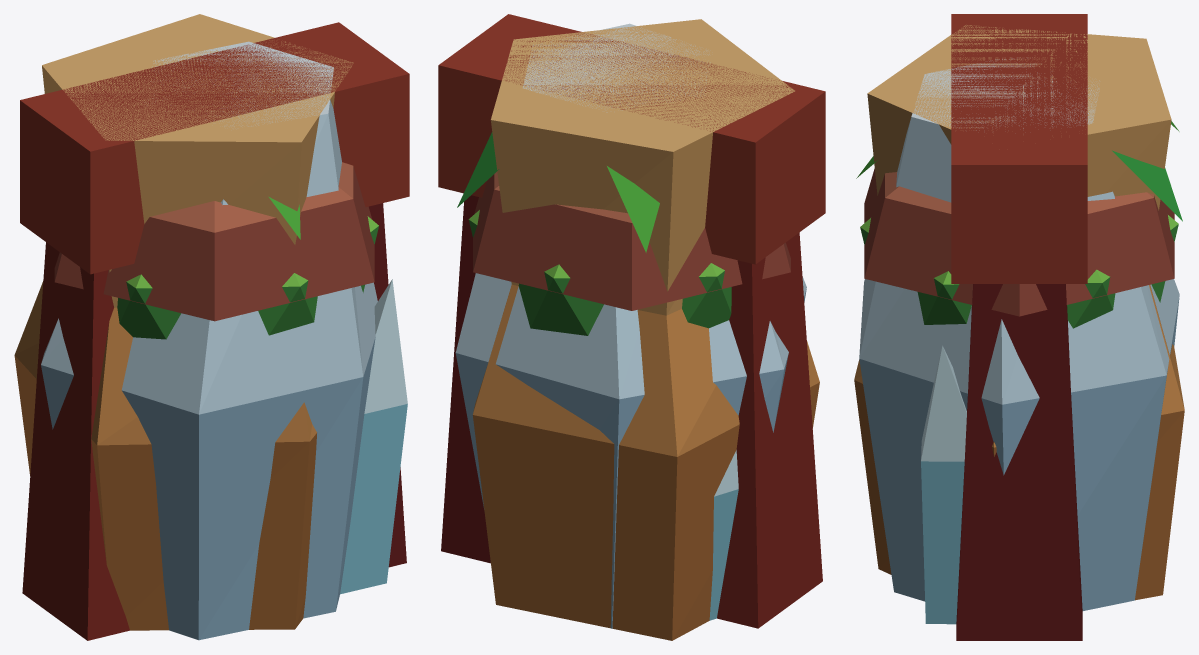
Rendered from openworld-biomes.glb.
3 renders of one model, left to right at view 1: azimuth 30°, elevation 25°; view 2: azimuth 150°, elevation 25°; view 3: azimuth 270°, elevation 25°, orthographic. The views are drawn at different scales.
Visible parts, largest first — view 1: ow_boulder_badlands, ow_boulder_tundra, ow_boulder_desert, ow_tree_forest, ow_tree_tundra, ow_tree_meadow; view 2: ow_boulder_desert, ow_boulder_badlands, ow_boulder_tundra, ow_tree_forest, ow_tree_meadow, ow_tree_archipelago, ow_tree_tundra; view 3: ow_boulder_badlands, ow_boulder_tundra, ow_boulder_desert, ow_tree_forest, ow_tree_tundra, ow_tree_meadow, ow_tree_archipelago.
Part boxes in pixels (x1,y1,x2,y2): ow_boulder_badlands: [20, 22, 409, 640]; ow_boulder_tundra: [41, 41, 377, 640]; ow_boulder_desert: [14, 14, 353, 630]; ow_tree_forest: [54, 162, 374, 321]; ow_tree_tundra: [340, 279, 407, 594]; ow_tree_meadow: [117, 216, 378, 339]; ow_boulder_desert: [472, 19, 819, 640]; ow_boulder_badlands: [438, 14, 825, 628]; ow_boulder_tundra: [455, 23, 806, 628]; ow_tree_forest: [473, 171, 790, 310]; ow_tree_meadow: [468, 210, 731, 335]; ow_tree_archipelago: [457, 132, 659, 252]; ow_tree_tundra: [709, 450, 738, 620]; ow_boulder_badlands: [951, 14, 1087, 640]; ow_boulder_tundra: [859, 58, 1179, 610]; ow_boulder_desert: [854, 25, 1184, 600]; ow_tree_forest: [864, 169, 1174, 316]; ow_tree_tundra: [921, 345, 966, 624]; ow_tree_meadow: [860, 215, 1178, 328]; ow_tree_archipelago: [856, 121, 1182, 221].
Size of the model in its own units: 0.6966 by 1 by 0.6294.
